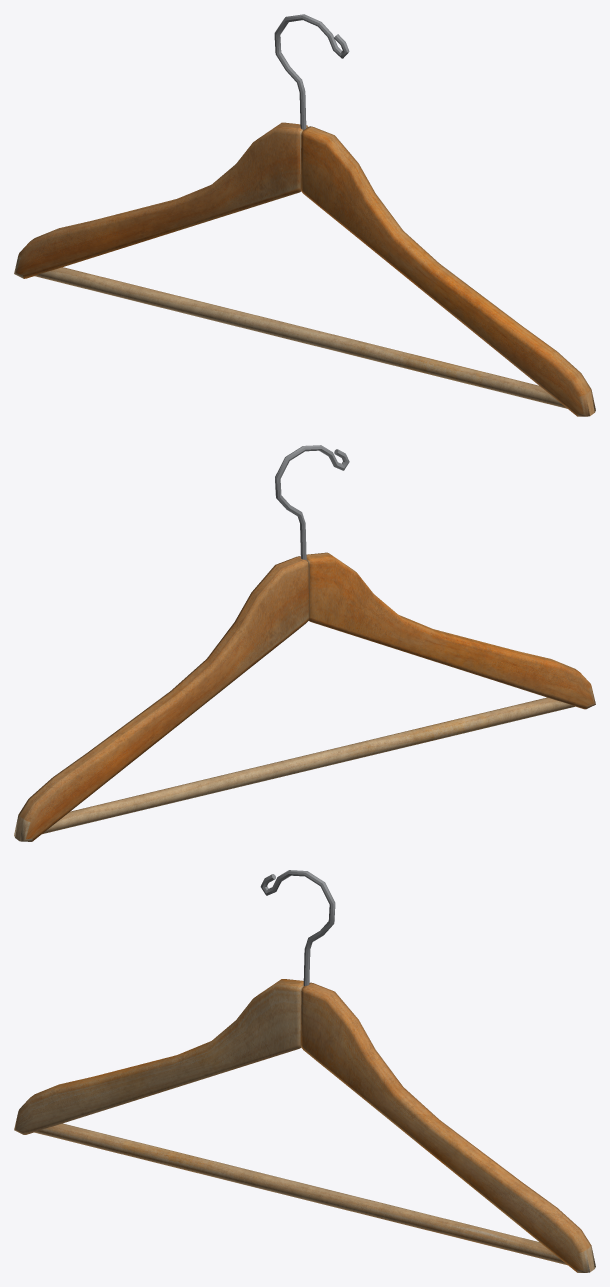
The model's file is Gancho.fbx.
3 renders of one model, top to bottom at view 1: azimuth 90°, elevation 25°; view 2: azimuth 150°, elevation 25°; view 3: azimuth 270°, elevation 25°, orthographic.
Parts seen in each view (by area): view 1: Gancho.002; view 2: Gancho.002; view 3: Gancho.002.
Boxes of the visible parts, box(x1,y1,x2,y2) form: Gancho.002: box(14, 14, 595, 416); Gancho.002: box(14, 445, 595, 841); Gancho.002: box(14, 870, 595, 1272).
Size of the model in its own units: 87.66 by 90.94 by 145.
1 material, 1 textured.
